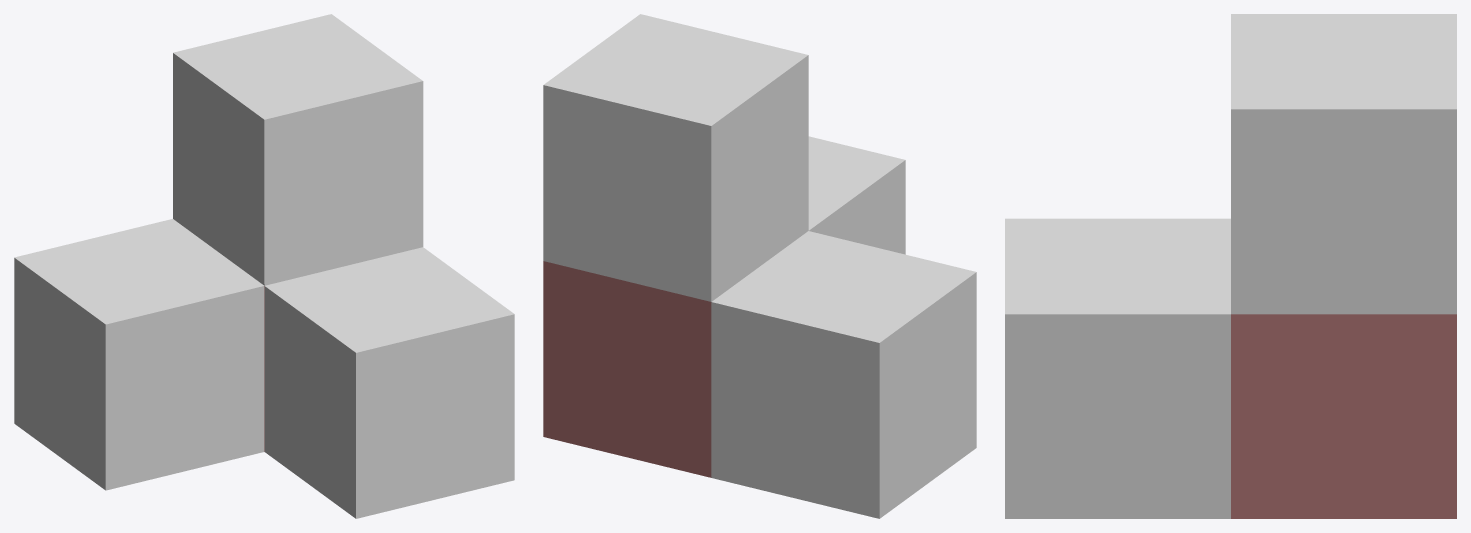
Rendered from piece6.fbx.
3 renders of one model, left to right at view 1: azimuth 30°, elevation 25°; view 2: azimuth 150°, elevation 25°; view 3: azimuth 270°, elevation 25°, orthographic. The views are drawn at different scales.
Visible parts, largest first — view 1: Shape_IndexedFaceSet.001; view 2: Shape_IndexedFaceSet.001; view 3: Shape_IndexedFaceSet.001.
Part boxes in pixels (x1=…): Shape_IndexedFaceSet.001: x1=14, y1=14, x2=514, y2=518; Shape_IndexedFaceSet.001: x1=543, y1=14, x2=976, y2=518; Shape_IndexedFaceSet.001: x1=1005, y1=14, x2=1456, y2=518.
Bounding box in the file's own units: 200 × 200 × 200.
